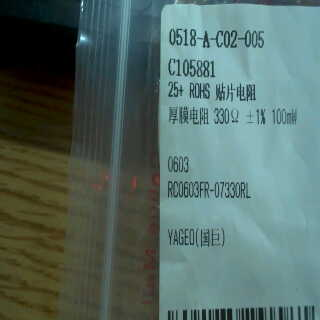330R: (211, 105, 244, 127)
